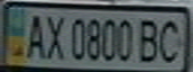0: (115, 15, 136, 63), (66, 14, 87, 62), (100, 15, 118, 63)
8: (84, 15, 103, 62)
A: (21, 10, 48, 60)
B: (136, 16, 163, 64)
C: (154, 16, 187, 64)
X: (42, 11, 66, 61)
